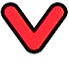box_arrow: (1, 1, 68, 54)
